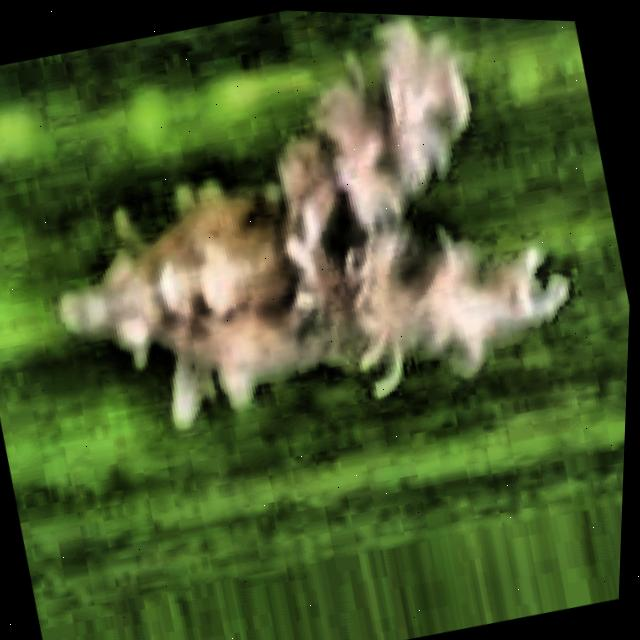Pyrilla-perpusilla: (0, 0, 634, 587)
